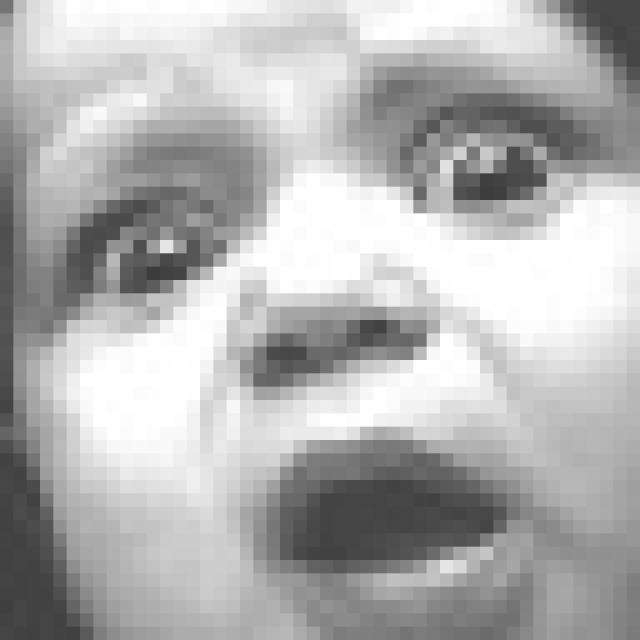fear: (46, 46, 640, 640)
